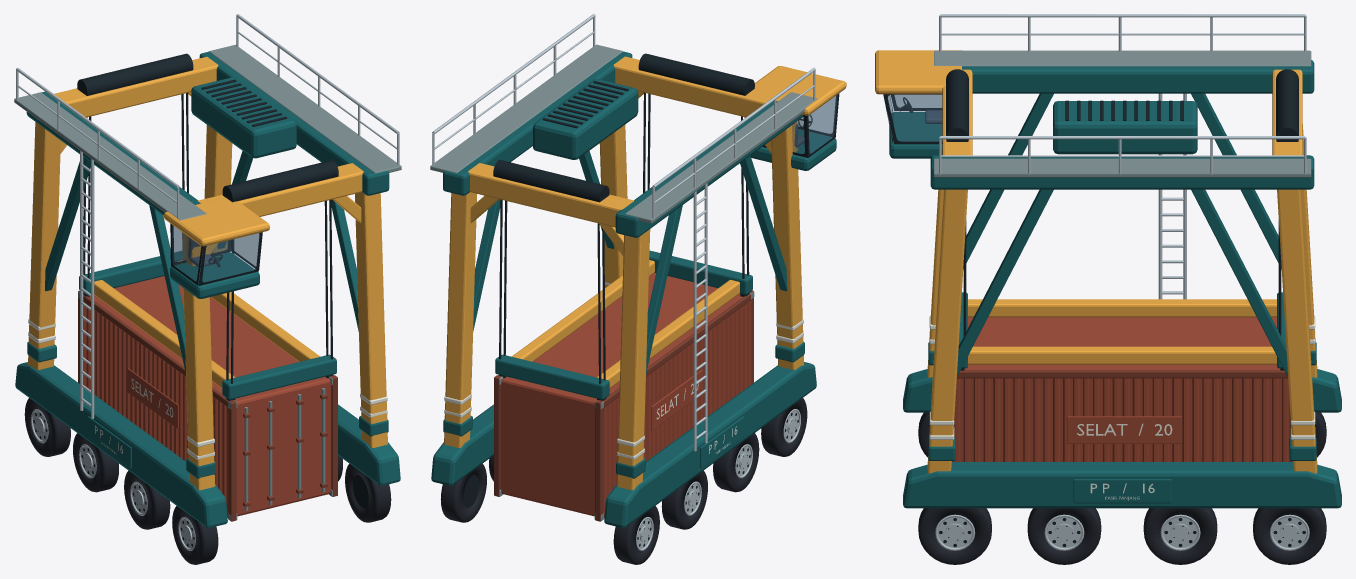
The picture shows the model from 3 angles, left to right: view 1: azimuth 30°, elevation 25°; view 2: azimuth 150°, elevation 25°; view 3: azimuth 270°, elevation 25°; orthographic projection. The views are drawn at different scales.
Parts seen in each view (by area): view 1: Pasir Panjang Box Carrier; view 2: Pasir Panjang Box Carrier; view 3: Pasir Panjang Box Carrier.
Boxes of the visible parts, x1=… form: Pasir Panjang Box Carrier: x1=14, y1=14, x2=401, y2=564; Pasir Panjang Box Carrier: x1=430, y1=14, x2=846, y2=564; Pasir Panjang Box Carrier: x1=875, y1=14, x2=1341, y2=564.
Size of the model in its own units: 5.16 by 8.42 by 8.12.
